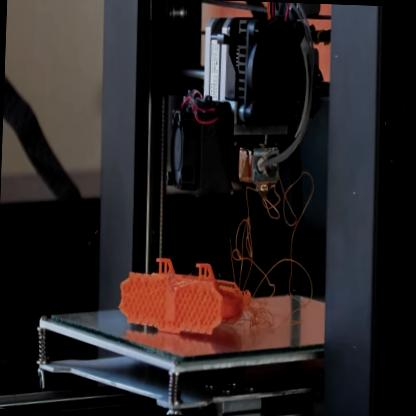fail: (232, 183, 314, 300)
